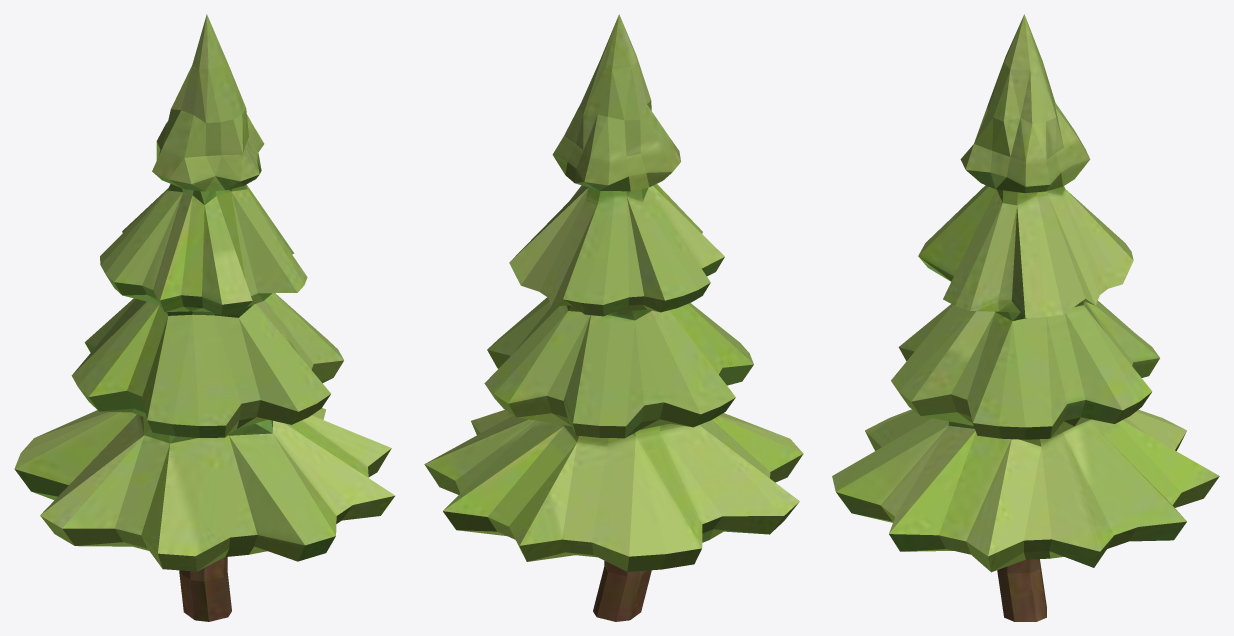
File: tree9.glb
3 views of the same model, side by side, from view 1: azimuth 30°, elevation 25°; view 2: azimuth 150°, elevation 25°; view 3: azimuth 270°, elevation 25° (orthographic).
Visible parts, largest first — view 1: car; view 2: car; view 3: car.
Boxes of the visible parts, bbox=[...] form: car: bbox=[14, 14, 395, 621]; car: bbox=[424, 14, 803, 621]; car: bbox=[832, 14, 1219, 621].
Size of the model in its own units: 0.5932 by 1.02 by 0.5989.
1 material, 1 textured.
